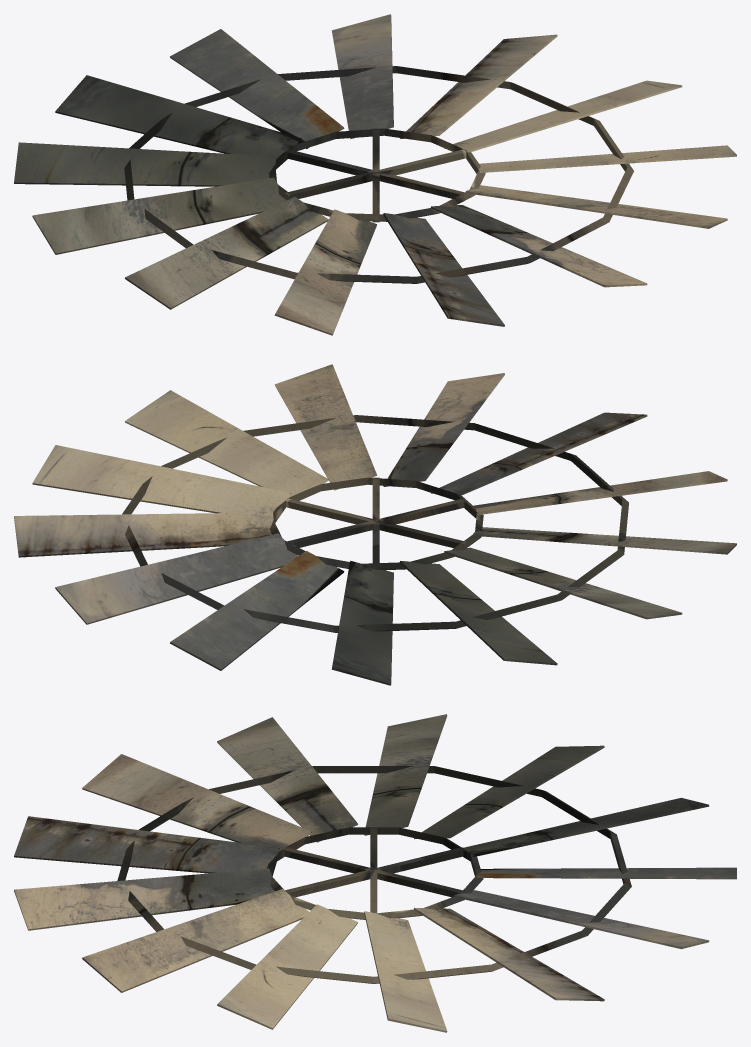
File: windmill-propeller.dae
3 views of the same model, one above another, from view 1: azimuth 30°, elevation 25°; view 2: azimuth 150°, elevation 25°; view 3: azimuth 270°, elevation 25° (orthographic).
Parts seen in each view (by area): view 1: Cube; view 2: Cube; view 3: Cube.
Part boxes in pixels (x1,y1,x2,y2): Cube: [14, 14, 736, 335]; Cube: [14, 364, 736, 685]; Cube: [14, 714, 736, 1032].
Bounding box in the file's own units: 6.26 × 6.21 × 0.1615.
1 material, 1 textured.
